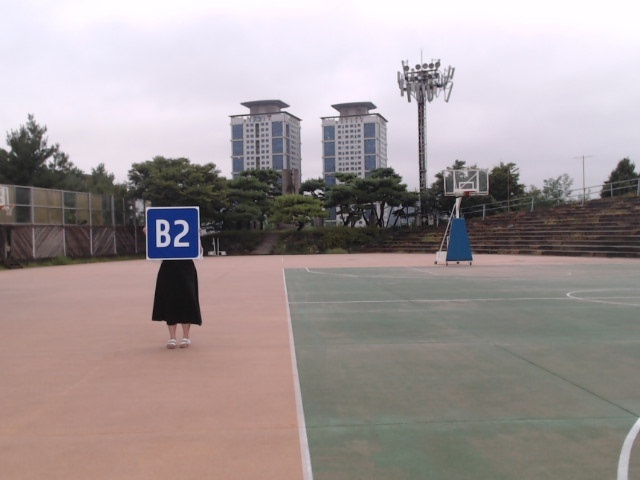delivery_b2: (146, 207, 199, 259)
